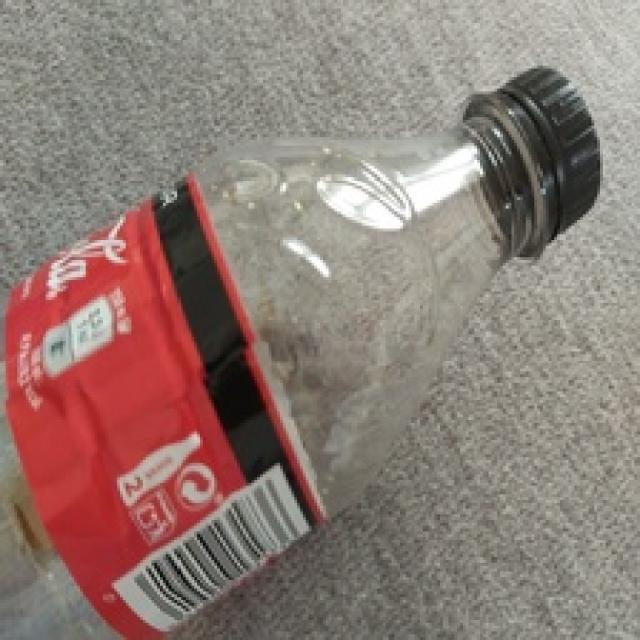Plastic: (0, 64, 604, 640)
